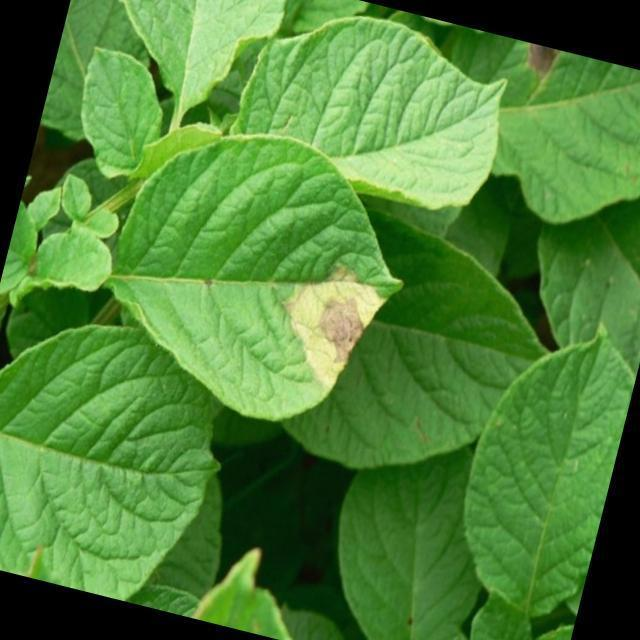Healthy Leaf: (0, 302, 236, 613), (207, 0, 514, 237), (442, 295, 640, 624), (52, 34, 180, 182)
